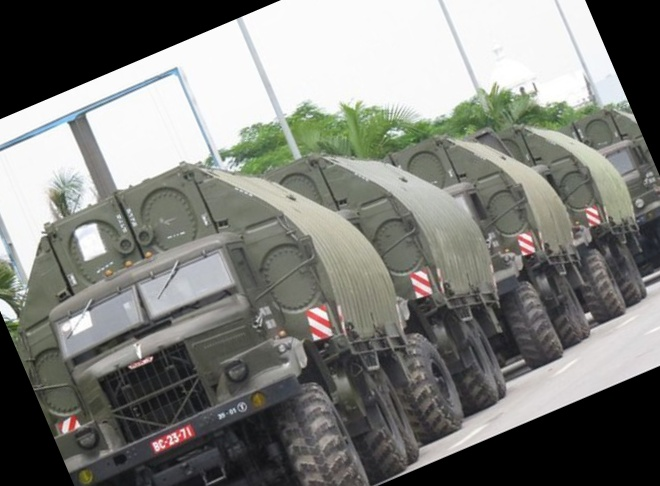plate: (146, 419, 195, 462)
